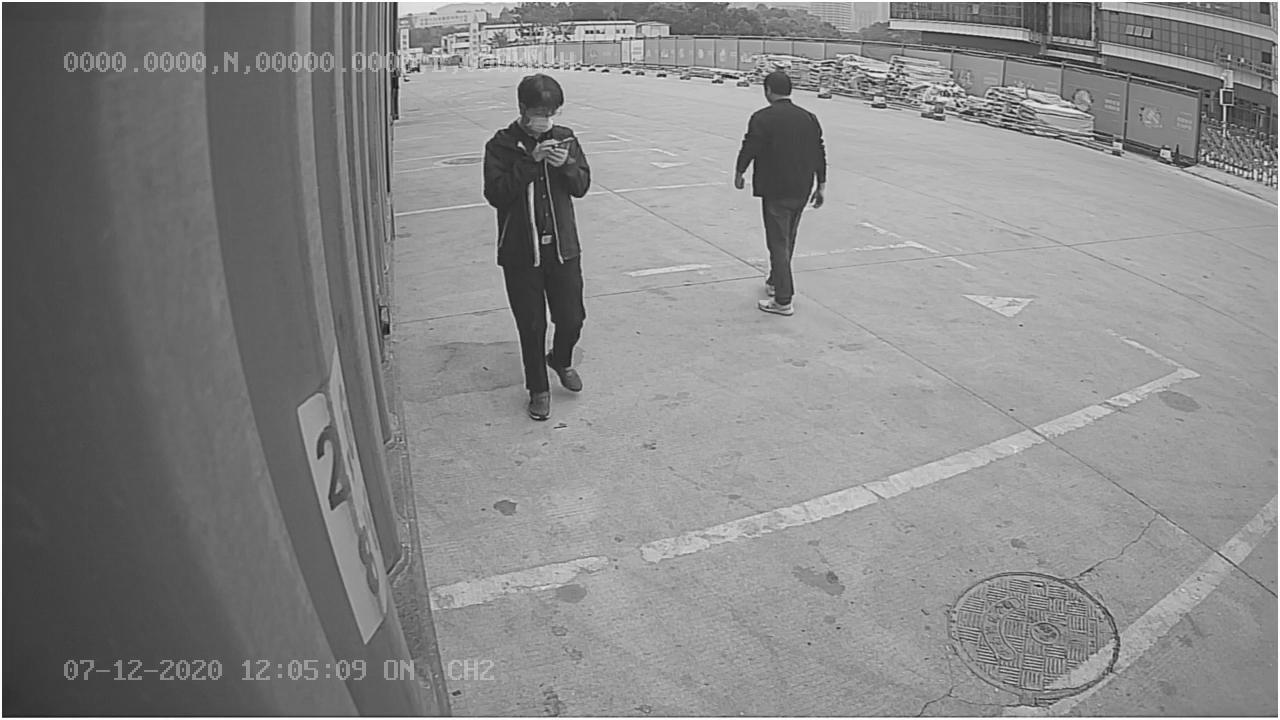person: (476, 73, 605, 423), (730, 67, 829, 323)
